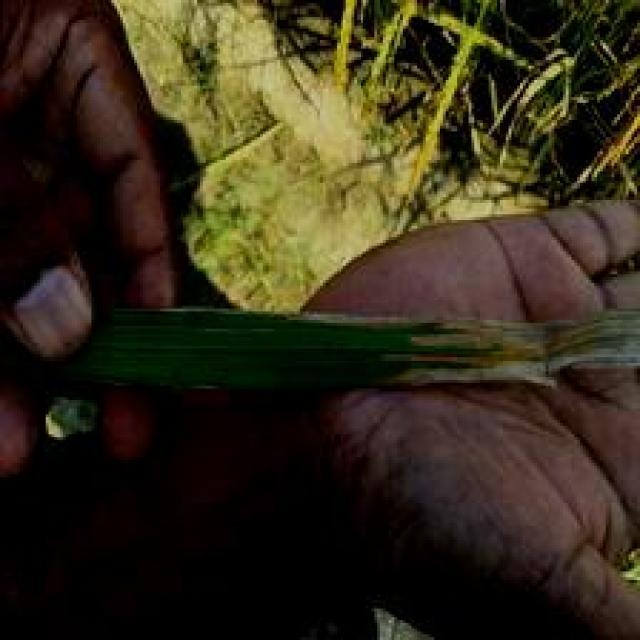Rice_Bacterial_Blight: (174, 274, 632, 380)
